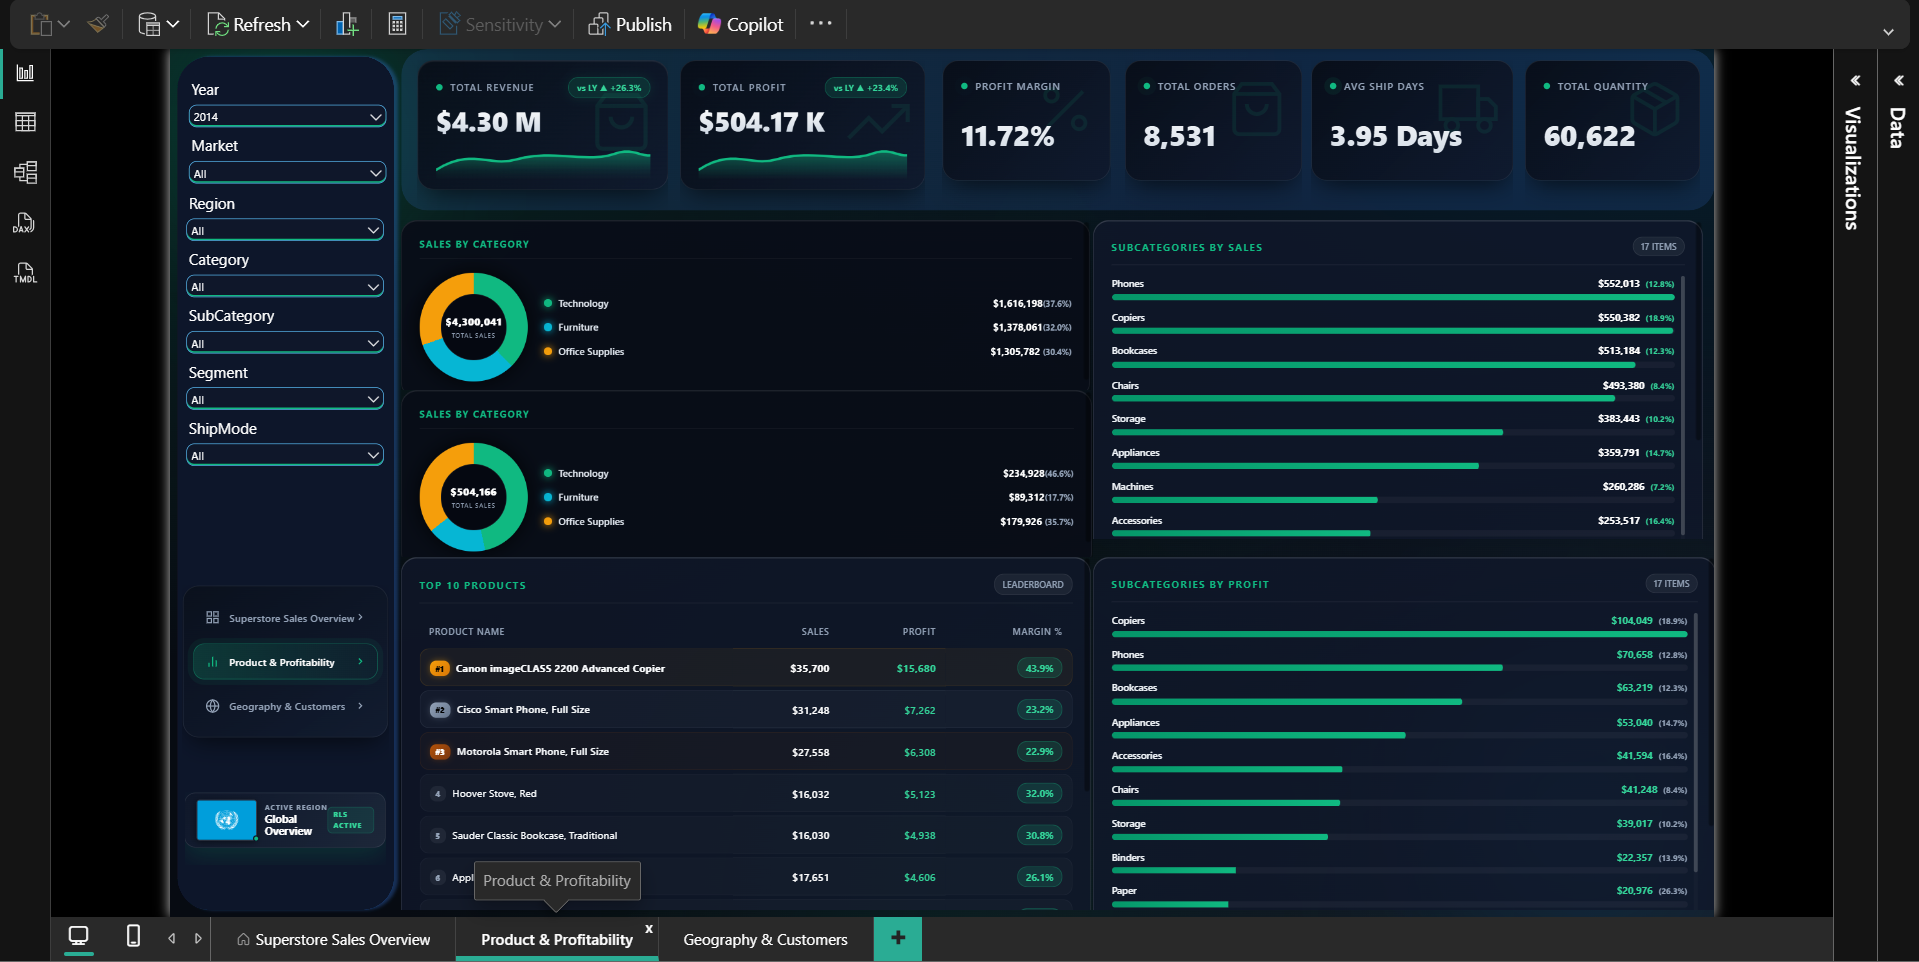

The page's visual inventory and layout, read from the dashboard file:
{"tool":"powerbi","page":{"name":"Product & Profitability","canvas":[1920,1080],"ordinal":1},"visuals":[{"type":"shape","box":[0,0,288,1079.9],"z":0},{"type":"slicer","fields":{"Values":["dw DimDate.Year"]},"box":[18,37.8,255.6,70.2],"z":1000},{"type":"slicer","fields":{"Values":["dw DimGeography.Market"]},"box":[18,108,255.6,70.2],"z":2000},{"type":"slicer","fields":{"Values":["dw DimGeography.Region"]},"box":[16.2,178.2,255.6,70.2],"z":3000},{"type":"slicer","fields":{"Values":["dw DimProduct.Category"]},"box":[16.2,248.4,255.6,70.2],"z":4000},{"type":"slicer","fields":{"Values":["dw DimProduct.SubCategory"]},"box":[16.2,318.6,255.6,70.2],"z":5000},{"type":"slicer","fields":{"Values":["dw DimCustomer.Segment"]},"box":[16.2,388.8,255.6,70.2],"z":6000},{"type":"slicer","fields":{"Values":["dw DimShipping.ShipMode"]},"box":[16.2,458.9,255.6,66.6],"z":7000},{"type":"pageNavigator","box":[17,590.4,253.5,238.2],"z":8000},{"type":"cardVisual","fields":{"Data":["dw FactSales.Total Sales"]},"box":[304.4,14.4,291.8,187.3],"z":9000},{"type":"cardVisual","fields":{"Data":["dw FactSales.Total Profit"]},"box":[623.2,14.4,291.8,187.3],"z":10000},{"type":"cardVisual","fields":{"Data":["dw FactSales.Profit Margin %"]},"box":[943.8,14.4,291.8,187.3],"z":11000},{"type":"cardVisual","fields":{"Data":["dw FactSales.Orders"]},"box":[1266.2,14.4,291.8,187.3],"z":12000},{"type":"cardVisual","fields":{"Data":["dw FactSales.Total Quantity"]},"box":[1594,14.4,291.8,187.3],"z":13000},{"type":"lineChart","fields":{"Y":["dw FactSales.Total Sales"],"Category":["dw DimDate.Month"]},"box":[270.2,108.1,326,79.2],"z":14000},{"type":"lineChart","fields":{"Y":["dw FactSales.Total Profit"],"Category":["dw DimDate.Month"]},"box":[596.5,104.7,315.2,79.2],"z":15000},{"type":"donutChart","title":"Sales By Category","fields":{"Category":["dw DimProduct.Category"],"Y":["dw FactSales.Total Sales"]},"box":[287.8,198.8,734.3,259.9],"z":16000},{"type":"donutChart","fields":{"Category":["dw DimProduct.Category"],"Y":["dw FactSales.Total Profit"]},"box":[1088.9,197.4,775.8,275.6],"z":17000},{"type":"barChart","fields":{"Category":["dw DimProduct.SubCategory"],"Y":["dw FactSales.Total Sales"]},"box":[287.8,458.7,774.4,251.2],"z":18000},{"type":"barChart","fields":{"Category":["dw DimProduct.SubCategory"],"Y":["dw FactSales.Total Profit"]},"box":[1089.7,459.3,774.5,246.8],"z":19000},{"type":"tableEx","title":"TOP 10 Products","fields":{"Values":["dw DimProduct.ProductName","Sum(dw FactSales.Sales)","Sum(dw FactSales.Profit)","dw FactSales.Profit Margin %"]},"box":[304.6,710.1,1580.8,370.5],"z":20000}]}

Visuals, with their boxes on the page's 1920x1080 design canvas (x1, y1, x2, y2). These are canvas units, not pixel positions in the 1919x962 screenshot, which may show the page scaled, cropped or inside an application window:
shape: [left=0, top=0, right=288, bottom=1080]
slicer - dw DimDate.Year: [left=18, top=38, right=274, bottom=108]
slicer - dw DimGeography.Market: [left=18, top=108, right=274, bottom=178]
slicer - dw DimGeography.Region: [left=16, top=178, right=272, bottom=248]
slicer - dw DimProduct.Category: [left=16, top=248, right=272, bottom=319]
slicer - dw DimProduct.SubCategory: [left=16, top=319, right=272, bottom=389]
slicer - dw DimCustomer.Segment: [left=16, top=389, right=272, bottom=459]
slicer - dw DimShipping.ShipMode: [left=16, top=459, right=272, bottom=526]
pageNavigator: [left=17, top=590, right=270, bottom=829]
cardVisual - dw FactSales.Total Sales: [left=304, top=14, right=596, bottom=202]
cardVisual - dw FactSales.Total Profit: [left=623, top=14, right=915, bottom=202]
cardVisual - dw FactSales.Profit Margin %: [left=944, top=14, right=1236, bottom=202]
cardVisual - dw FactSales.Orders: [left=1266, top=14, right=1558, bottom=202]
cardVisual - dw FactSales.Total Quantity: [left=1594, top=14, right=1886, bottom=202]
lineChart - dw FactSales.Total Sales x dw DimDate.Month: [left=270, top=108, right=596, bottom=187]
lineChart - dw FactSales.Total Profit x dw DimDate.Month: [left=596, top=105, right=912, bottom=184]
"Sales By Category" donutChart: [left=288, top=199, right=1022, bottom=459]
donutChart - dw DimProduct.Category x dw FactSales.Total Profit: [left=1089, top=197, right=1865, bottom=473]
barChart - dw DimProduct.SubCategory x dw FactSales.Total Sales: [left=288, top=459, right=1062, bottom=710]
barChart - dw DimProduct.SubCategory x dw FactSales.Total Profit: [left=1090, top=459, right=1864, bottom=706]
"TOP 10 Products" tableEx: [left=305, top=710, right=1885, bottom=1081]
